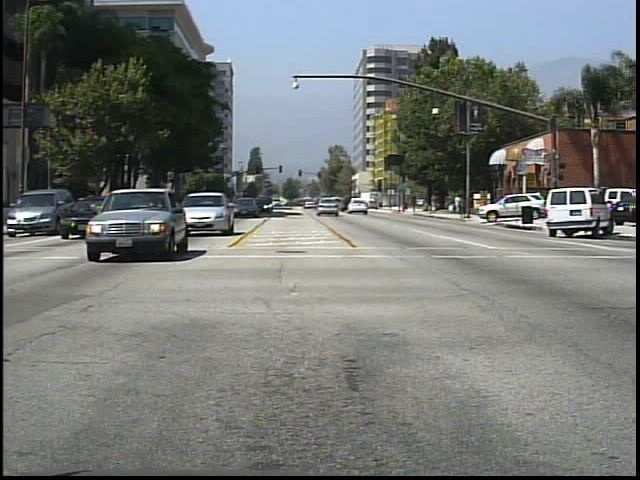person: (452, 189, 467, 221), (429, 192, 441, 215)
